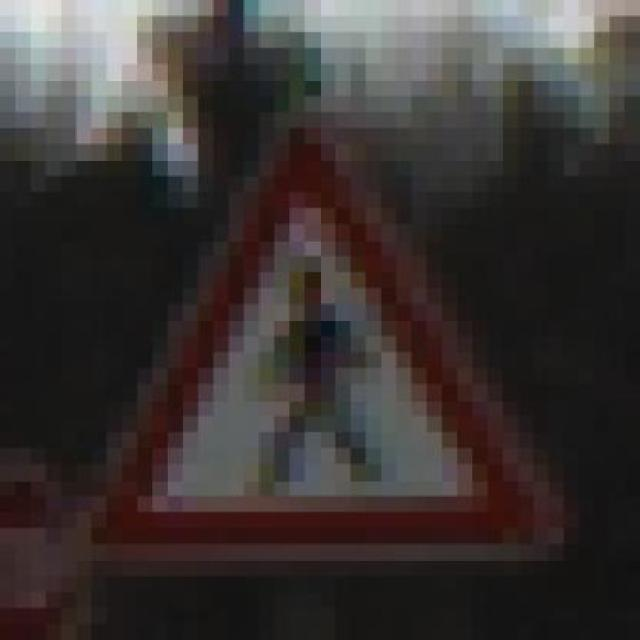Pedestrian Crossing: (61, 96, 564, 576)
